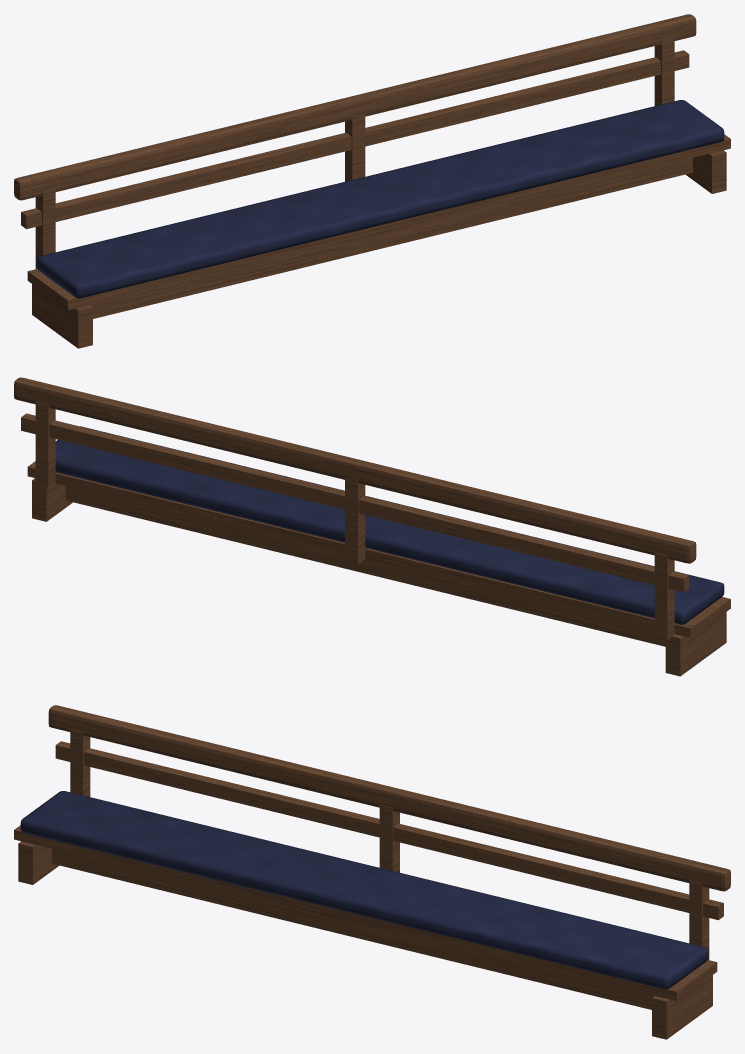
The model's file is waiting-bench.glb.
The picture shows the model from 3 angles, top to bottom: view 1: azimuth 30°, elevation 25°; view 2: azimuth 150°, elevation 25°; view 3: azimuth 330°, elevation 25°; orthographic projection.
Parts seen in each view (by area): view 1: WB-Wood, WB-Cushion; view 2: WB-Wood, WB-Cushion; view 3: WB-Wood, WB-Cushion.
Part boxes in pixels (left/top/right/bottom): WB-Wood: left=14, top=14, right=730, bottom=348; WB-Cushion: left=36, top=100, right=724, bottom=298; WB-Wood: left=14, top=377, right=730, bottom=676; WB-Cushion: left=55, top=426, right=724, bottom=624; WB-Wood: left=14, top=705, right=730, bottom=1039; WB-Cushion: left=20, top=791, right=708, bottom=989.
Size of the model in its own units: 0.186 by 0.036 by 0.0242.
Materials: 2 (2 with a texture image).
